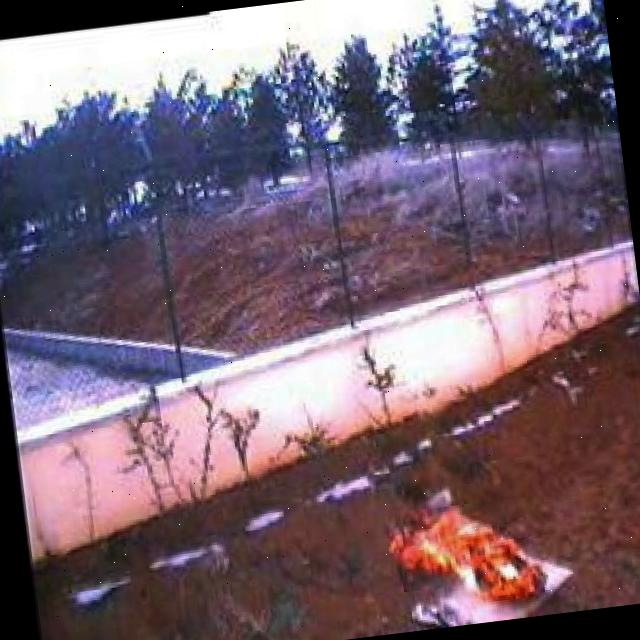fire: (380, 484, 557, 623)
